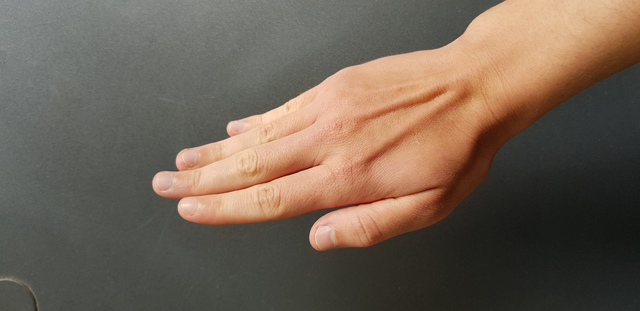Paper: (125, 42, 505, 267)
